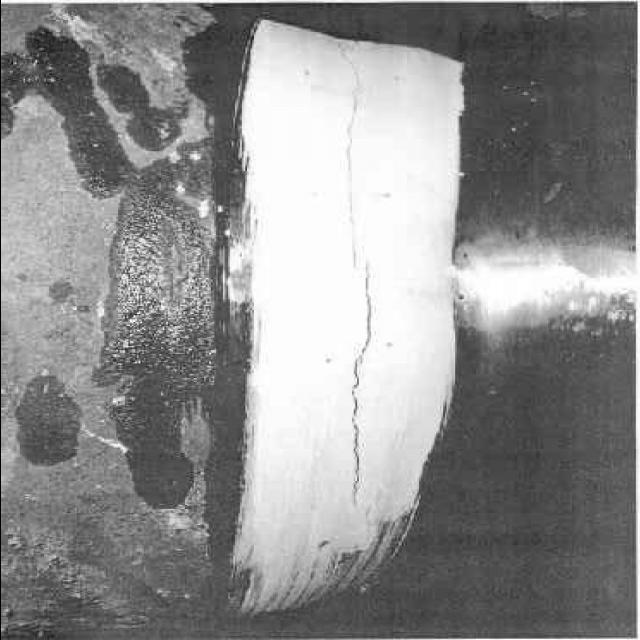Crack: (324, 42, 364, 273), (342, 255, 376, 506)
